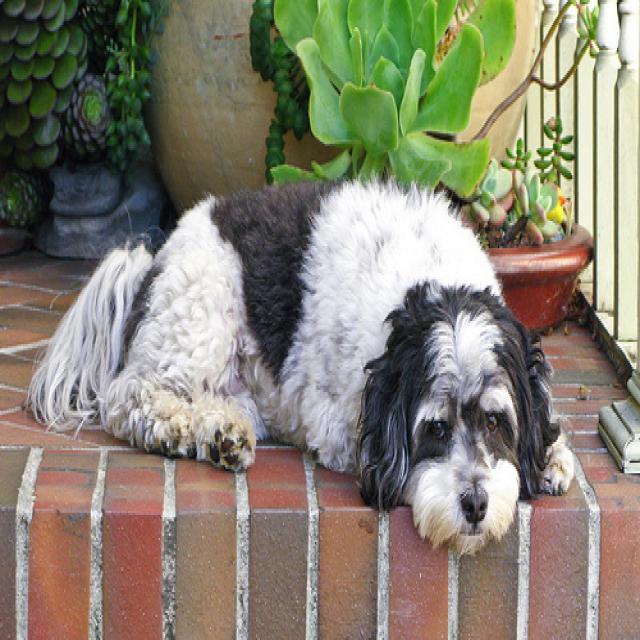dog-havanese: (23, 175, 577, 559)
